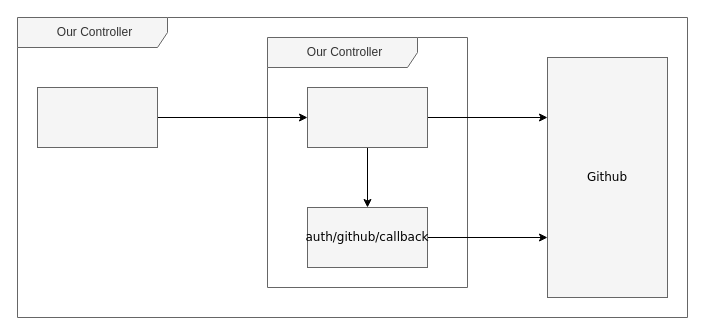
The diagram is 705 pixels wide and 335 high, and some of its shapes have lost their labels. The box of each missing label's shape, as (x1, y1, x2, y2) in pixels:
auth/github: (306, 86, 428, 148)
Login with Github: (36, 86, 158, 148)
